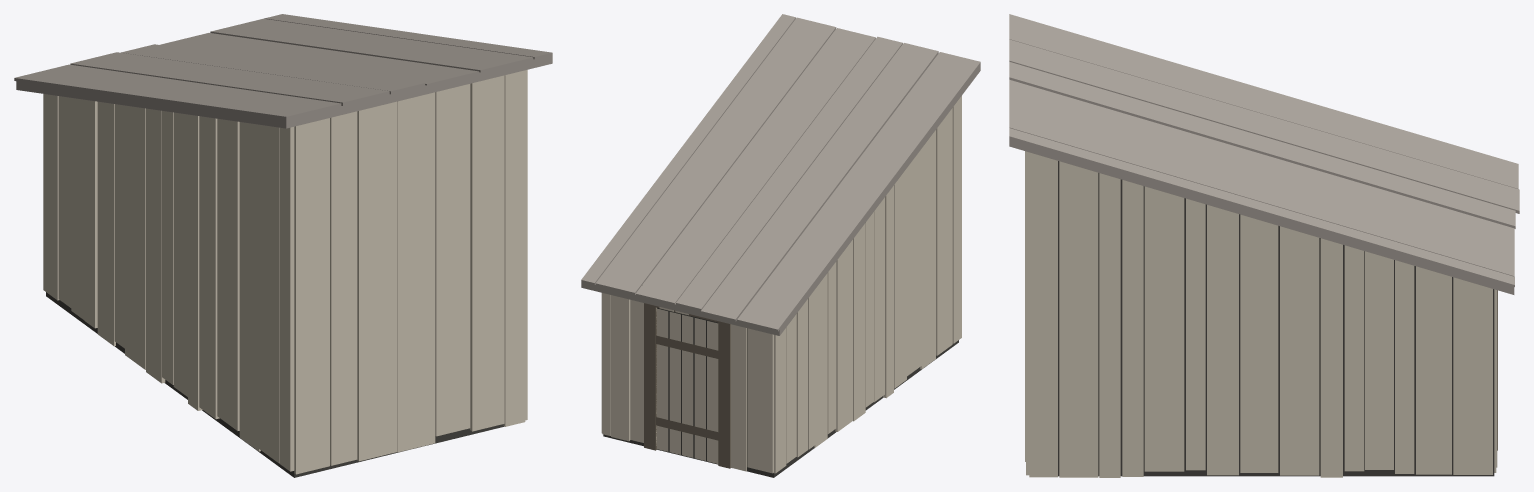
The model's file is recon_1835_blk_south_water_clark_a4_07__inferred_1835.glb.
3 renders of one model, left to right at view 1: azimuth 30°, elevation 25°; view 2: azimuth 150°, elevation 25°; view 3: azimuth 270°, elevation 25°, orthographic. The views are drawn at different scales.
Visible parts, largest first — view 1: recon_1835_blk_south_water_clark_a4_07__inferred_1835; view 2: recon_1835_blk_south_water_clark_a4_07__inferred_1835; view 3: recon_1835_blk_south_water_clark_a4_07__inferred_1835.
Boxes of the visible parts, x1,y1,x2,y2 form: recon_1835_blk_south_water_clark_a4_07__inferred_1835: (14, 14, 552, 477); recon_1835_blk_south_water_clark_a4_07__inferred_1835: (581, 14, 980, 477); recon_1835_blk_south_water_clark_a4_07__inferred_1835: (1009, 14, 1519, 477).
Size of the model in its own units: 2.72 by 3.66 by 4.83.
